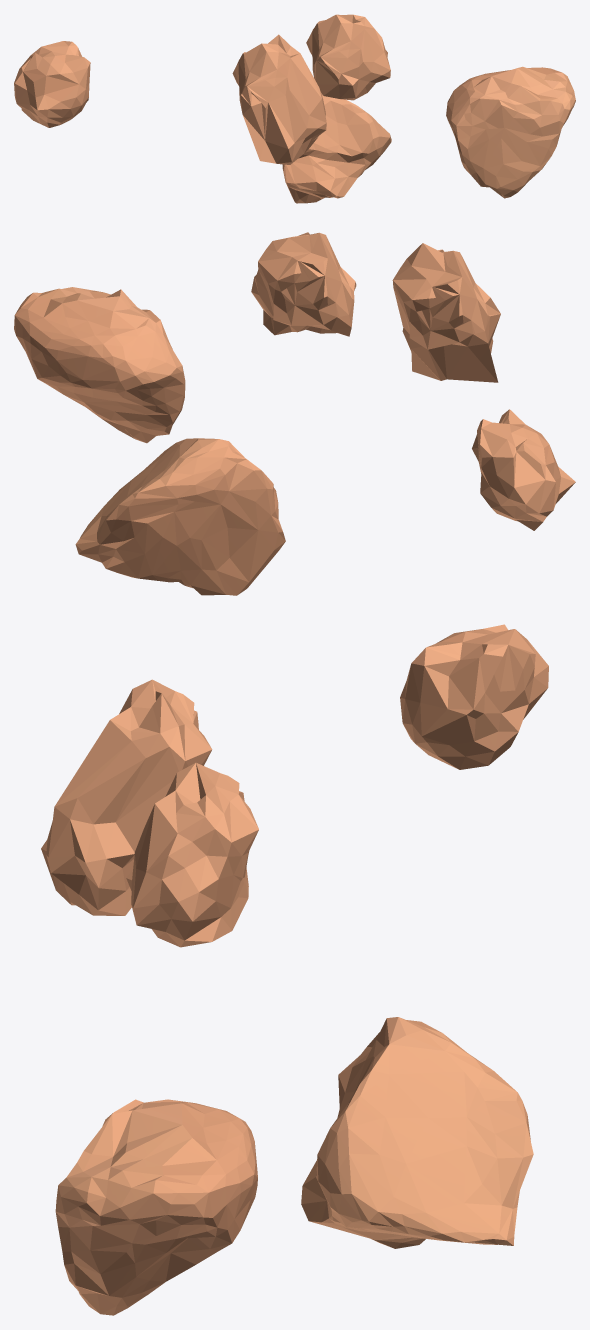
The model's file is Rocks.dae.
The picture shows the model from 3 angles, top to bottom: view 1: azimuth 30°, elevation 25°; view 2: azimuth 150°, elevation 25°; view 3: azimuth 270°, elevation 25°; orthographic projection. The views are drawn at different scales.
Parts seen in each view (by area): view 1: group_2, group_3, group_0, group_4, group_1; view 2: group_0, group_2, group_3, group_4, group_1; view 3: group_0, group_2, group_3, group_4, group_1.
Part boxes in pixels (box(x1,y1,x2,y2)): group_2: box(446, 66, 575, 198); group_3: box(232, 34, 326, 164); group_0: box(282, 93, 391, 203); group_4: box(306, 14, 390, 100); group_1: box(14, 41, 90, 127); group_0: box(75, 438, 285, 595); group_2: box(14, 287, 185, 443); group_3: box(392, 243, 500, 382); group_4: box(251, 232, 356, 336); group_1: box(472, 409, 575, 530); group_0: box(301, 1017, 533, 1248); group_2: box(55, 1099, 257, 1315); group_3: box(41, 679, 212, 915); group_4: box(126, 763, 258, 947); group_1: box(400, 624, 548, 769).
Size of the model in its own units: 21.25 by 10.01 by 10.06.
1 material, 1 textured.
